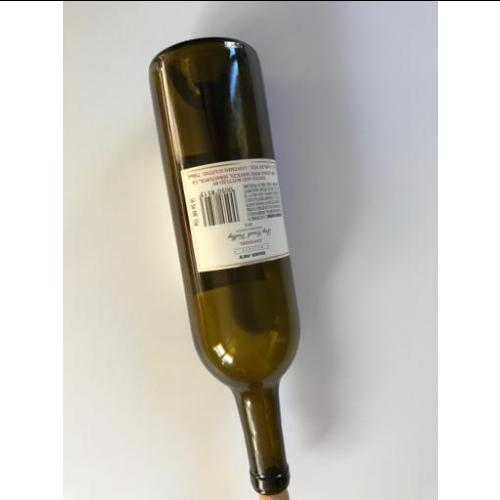glass: (153, 35, 302, 489)
